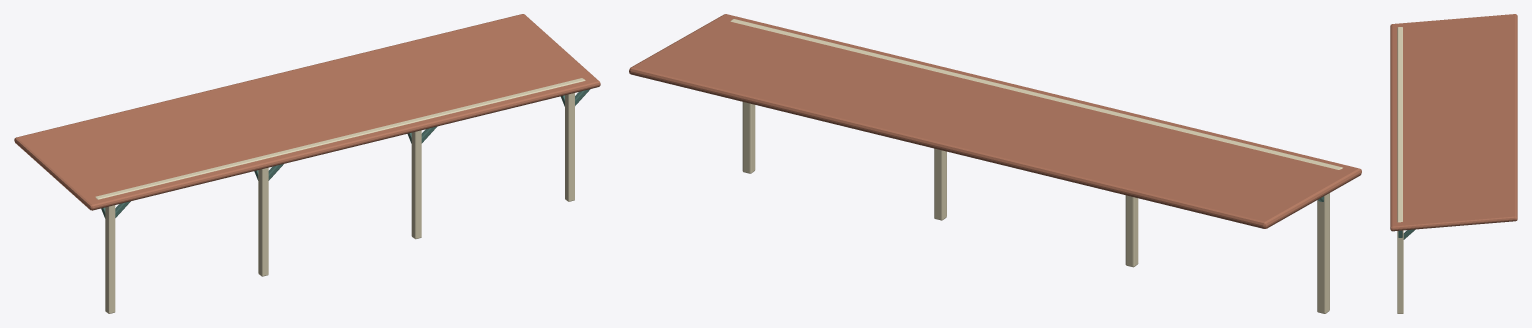
File: SM_Canopy.fbx
3 renders of one model, left to right at view 1: azimuth 30°, elevation 25°; view 2: azimuth 150°, elevation 25°; view 3: azimuth 270°, elevation 25°, orthographic. The views are drawn at different scales.
Visible parts, largest first — view 1: SM_Canopy; view 2: SM_Canopy; view 3: SM_Canopy.
Boxes of the visible parts, x1,y1,x2,y2 form: SM_Canopy: (14, 14, 600, 313); SM_Canopy: (629, 14, 1361, 313); SM_Canopy: (1390, 14, 1517, 313).
Size of the model in its own units: 1400 by 369 by 338.
